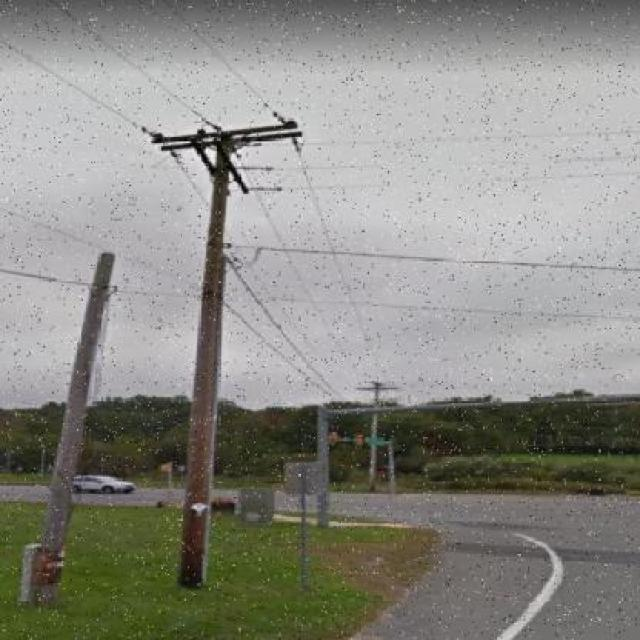pole: (117, 86, 312, 612)
